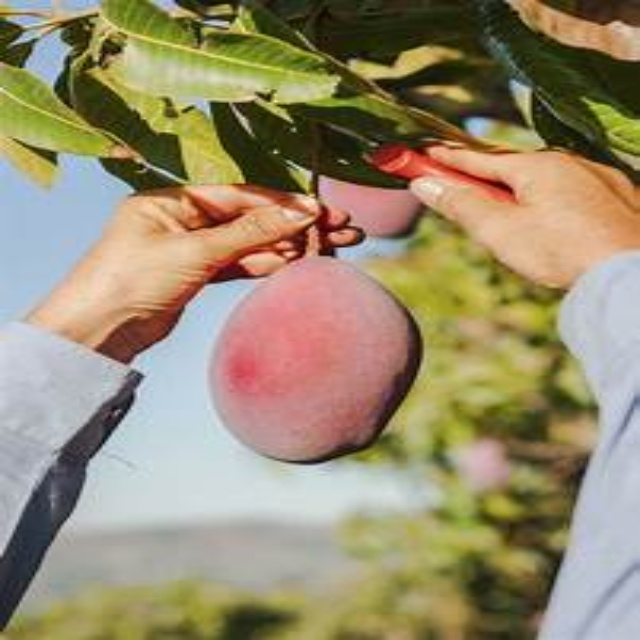mango: (205, 251, 422, 470)
